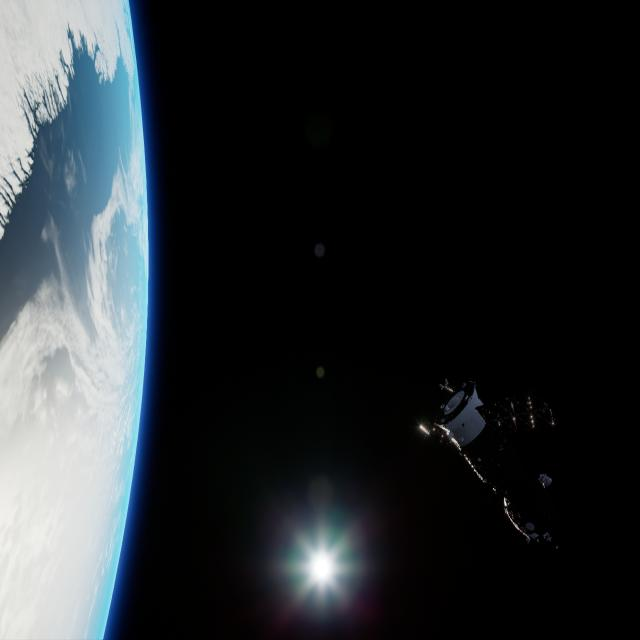Satellites revolving around earth: (0, 2, 150, 637)
